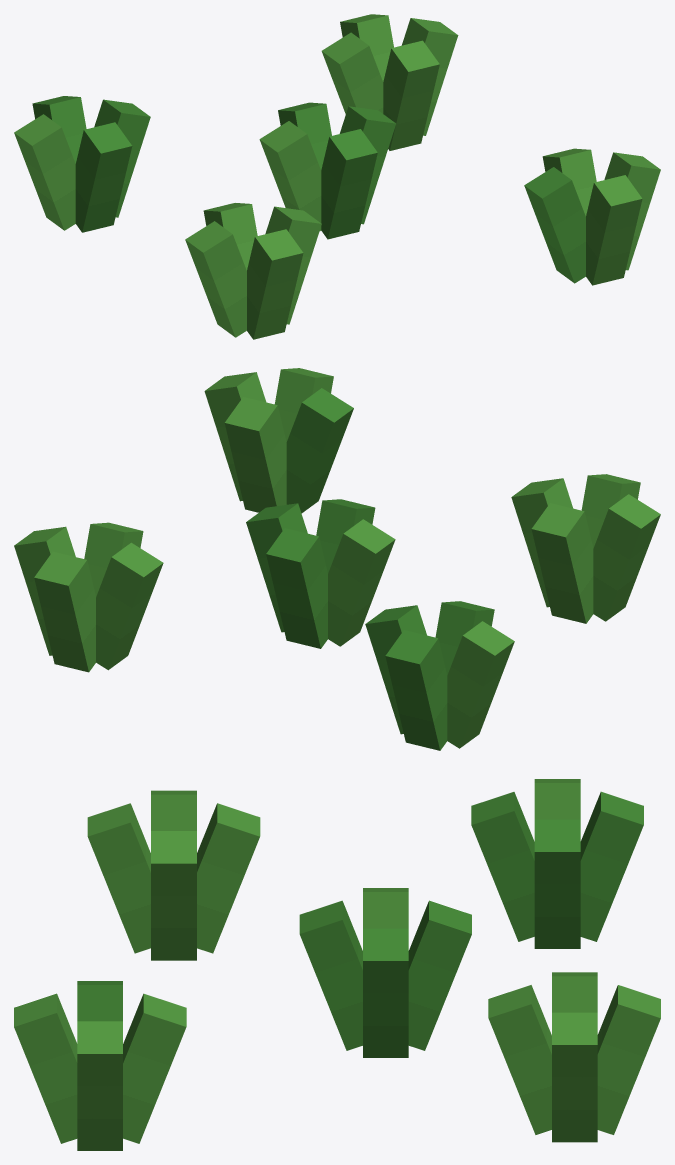
The model's file is crop_carotte_1.glb.
3 views of the same model, one above another, from view 1: azimuth 30°, elevation 25°; view 2: azimuth 150°, elevation 25°; view 3: azimuth 270°, elevation 25° (orthographic). The views are drawn at different scales.
Visible parts, largest first — view 1: Crop; view 2: Crop; view 3: Crop.
Part boxes in pixels (box(x1,y1,x2,y2)): Crop: box(14, 14, 660, 339); Crop: box(14, 368, 660, 750); Crop: box(14, 779, 660, 1150).
Bounding box in the file's own units: 0.7102 × 0.1581 × 0.7066.
2 materials, 2 textured.
